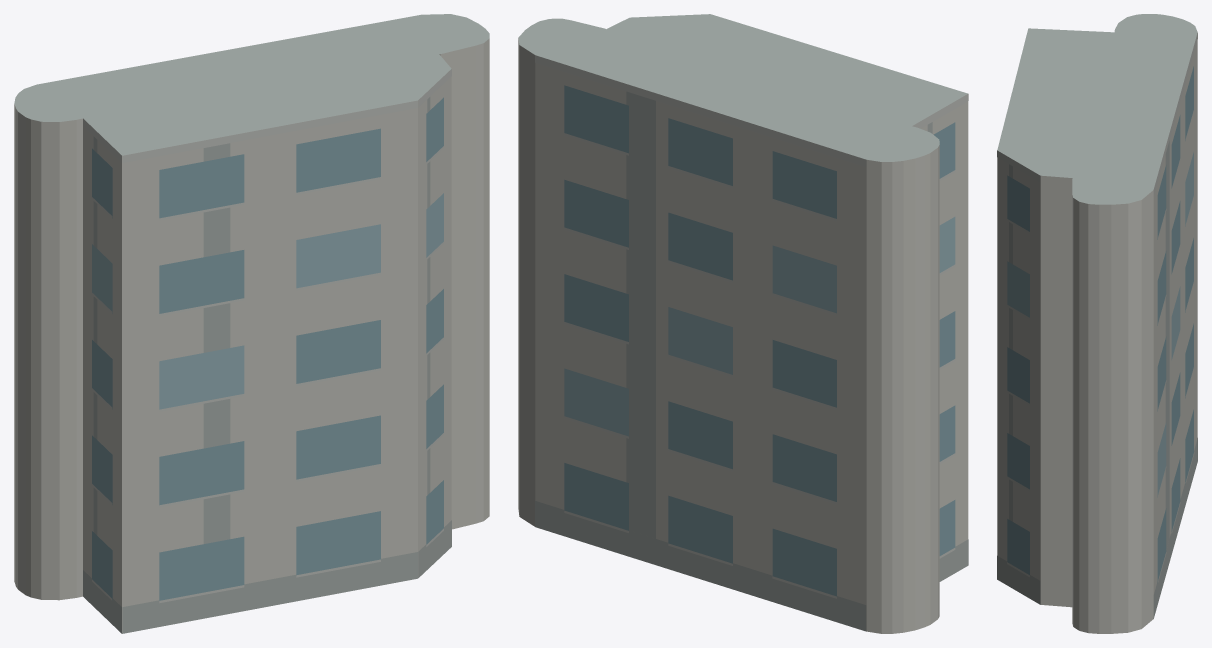
File: survey-upis-32648055.glb
3 renders of one model, left to right at view 1: azimuth 30°, elevation 25°; view 2: azimuth 150°, elevation 25°; view 3: azimuth 270°, elevation 25°, orthographic. The views are drawn at different scales.
Parts seen in each view (by area): view 1: survey-upis-32648055.tmp; view 2: survey-upis-32648055.tmp; view 3: survey-upis-32648055.tmp.
Part boxes in pixels (x1,y1,x2,y2): survey-upis-32648055.tmp: [14, 14, 489, 633]; survey-upis-32648055.tmp: [518, 14, 968, 633]; survey-upis-32648055.tmp: [997, 14, 1197, 633].
Bounding box in the file's own units: 14.54 × 15.25 × 6.47.
